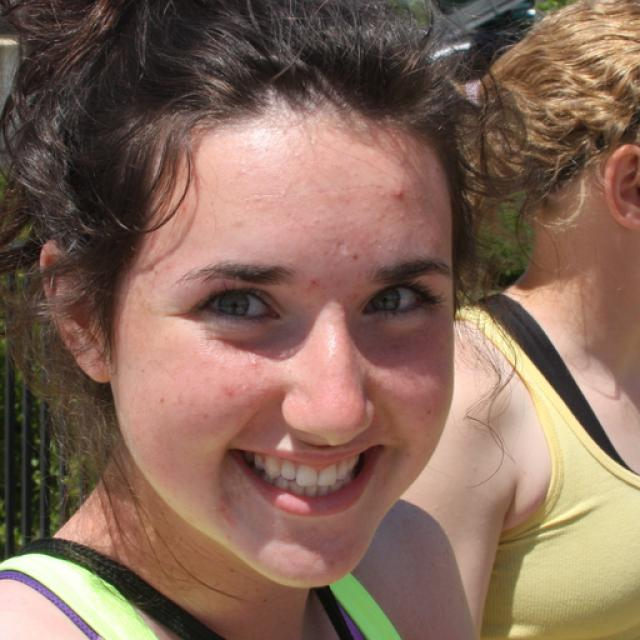Acne: (382, 182, 414, 208), (245, 356, 264, 371)
